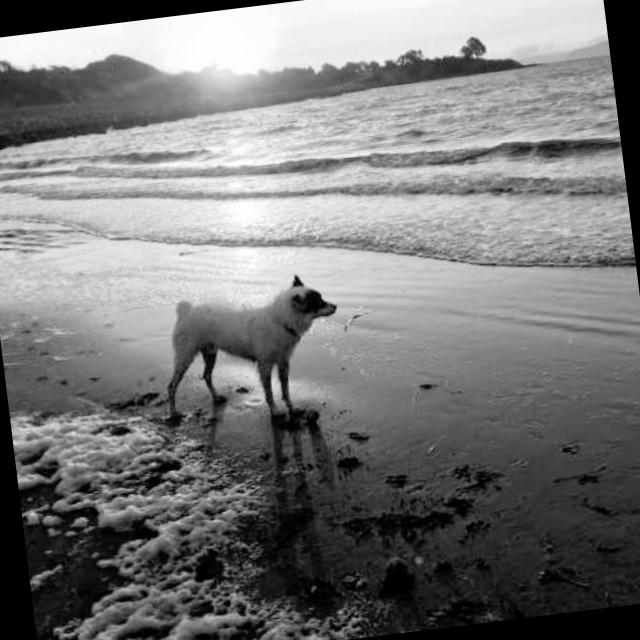Dog: (144, 250, 362, 436)
